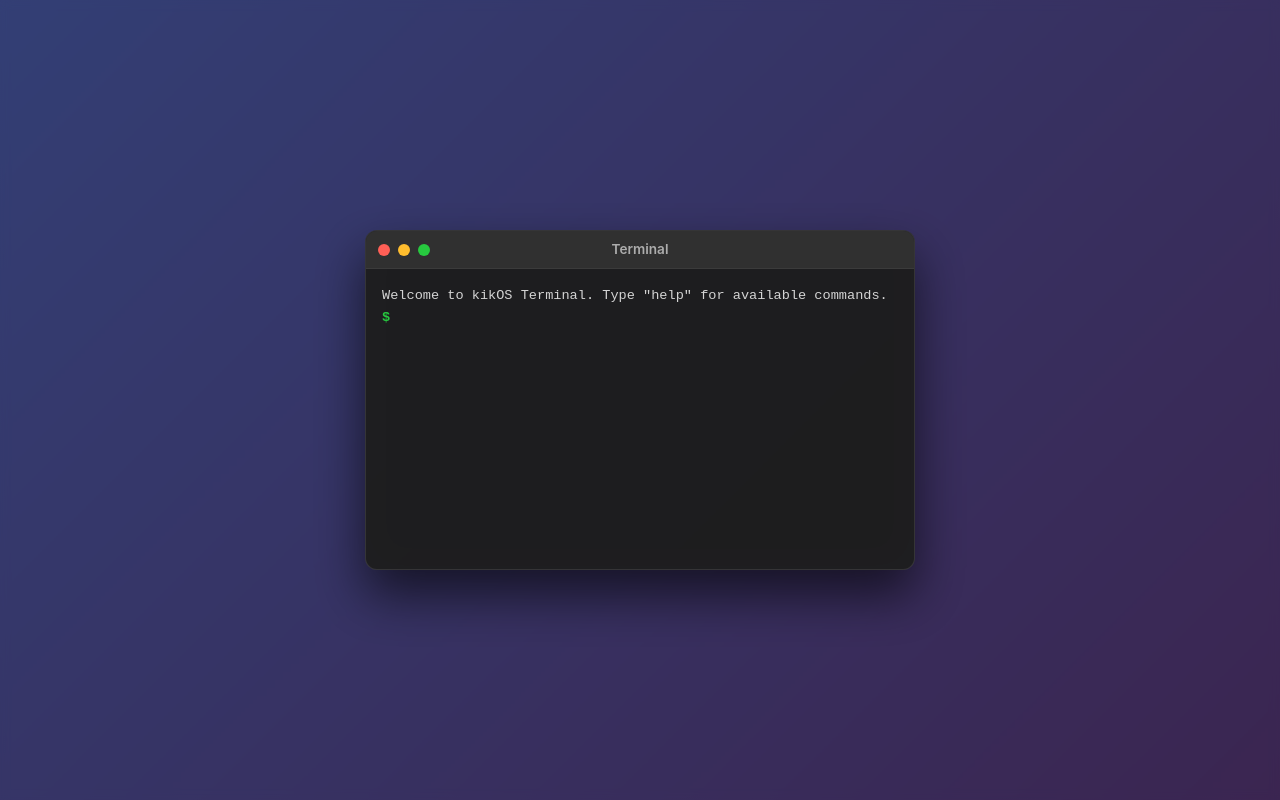
Test: Terminal › validates and saves a valid API key
The width and height of the screenshot is (1280, 800).
Type "set-api-key mySecretKey123" into the field. click: (644, 318)
box: [390,307,898,329]
Then press Enter
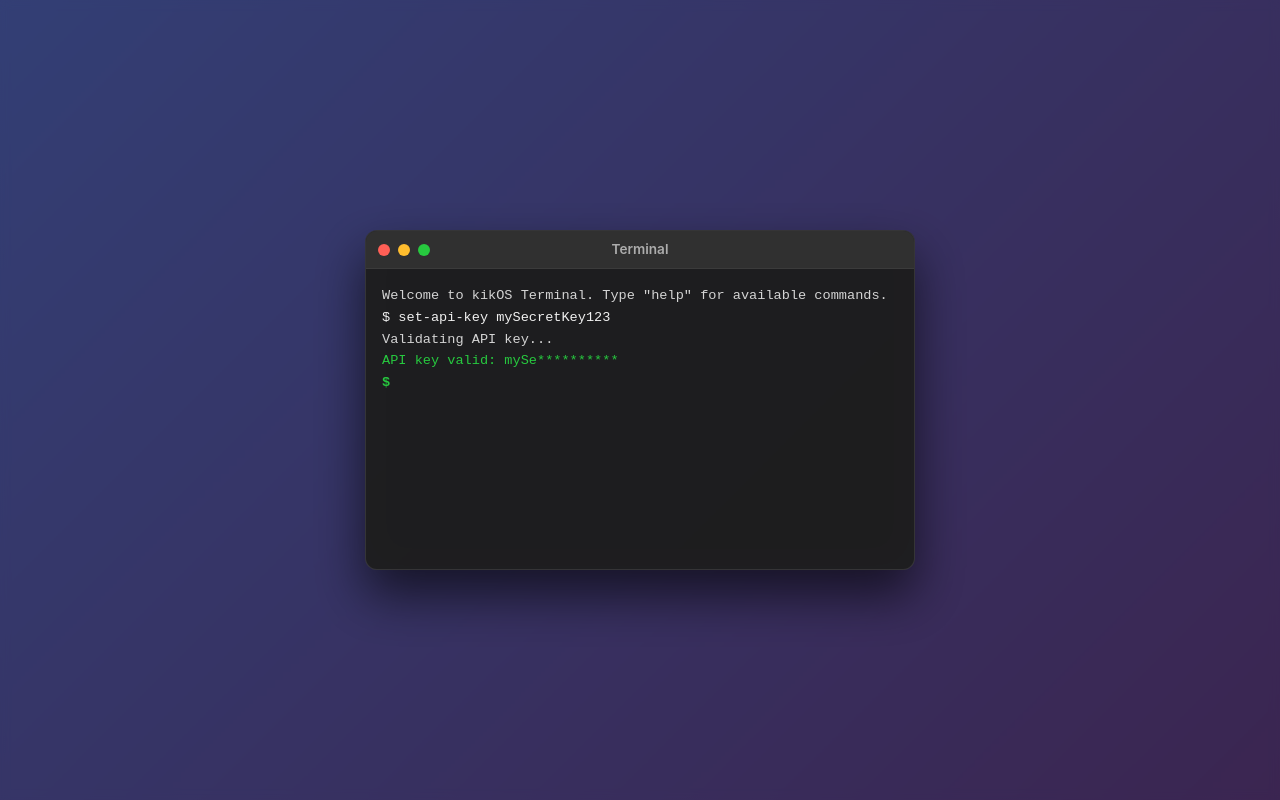
expect the text "Validating API key..." is shown: met, box [382,332,553,346]
expect the text "API key valid: mySe**********" is shown: met, box [382,353,619,368]
